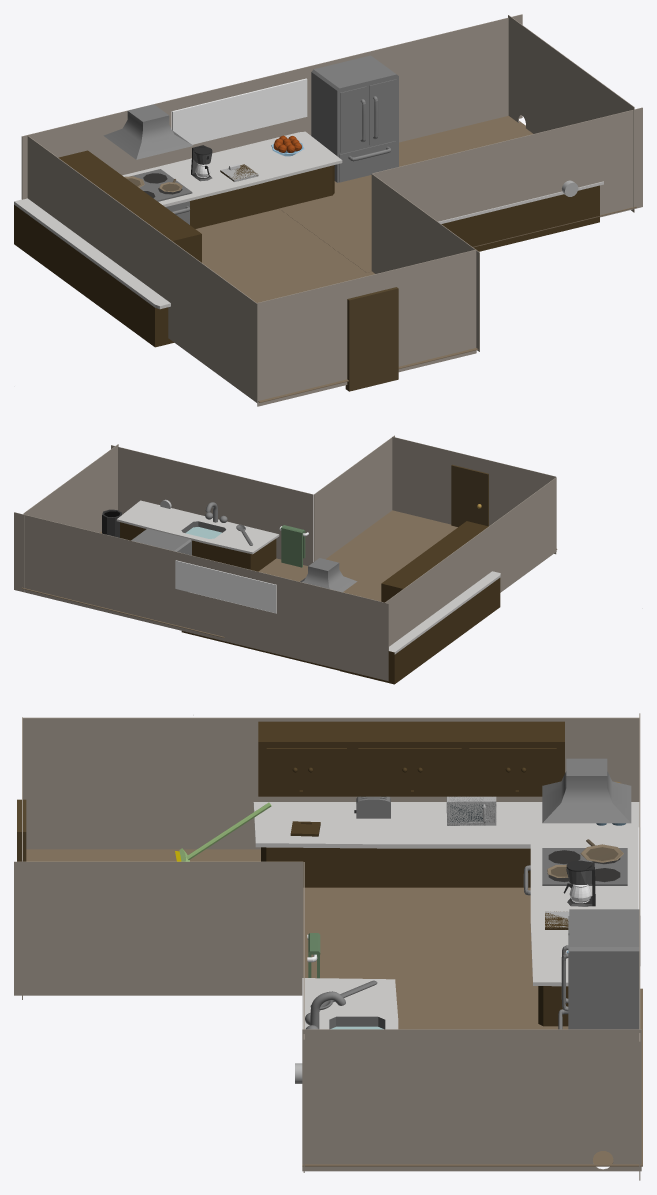
The model's file is kitchennotexture.fbx.
3 views of the same model, one above another, from view 1: azimuth 30°, elevation 25°; view 2: azimuth 150°, elevation 25°; view 3: azimuth 270°, elevation 25° (orthographic). The views are drawn at different scales.
Visible parts, largest first — view 1: Wall2, Wall3, DoubleCounter, Wall5, Wall1, Floor, Fridge, Floor1, Wall, Wall4, SingleCounter, Window (+4 smaller); view 2: Wall2, Wall1, Wall5, Wall3, Wall4, Floor, DoubleCounter, SingleCounter, Wall, Window, Cabinets, Door (+5 smaller); view 3: Wall, Wall4, Wall5, DoubleCounter, Floor, Cabinets, Fridge, Floor1, StoveHood, SingleCounter, StoveTop, Microwave (+5 smaller).
Part boxes in pixels (x1,y1,x2,y2): Wall2: (21, 14, 522, 199); Wall3: (257, 249, 476, 406); DoubleCounter: (14, 131, 342, 347); Wall5: (27, 136, 257, 403); Wall1: (372, 107, 642, 221); Floor: (195, 208, 478, 402); Fridge: (311, 55, 398, 182); Floor1: (279, 116, 636, 272); Wall: (508, 15, 634, 212); Wall4: (371, 174, 479, 351); SingleCounter: (438, 181, 603, 251); Window: (172, 78, 307, 144); Wall2: (14, 512, 388, 681); Wall1: (111, 445, 313, 565); Wall5: (385, 477, 556, 646); Wall3: (392, 436, 556, 554); Wall4: (314, 435, 394, 561); Floor: (326, 510, 557, 601); DoubleCounter: (181, 571, 500, 684); SingleCounter: (116, 500, 279, 571); Wall: (23, 444, 118, 591); Window: (175, 560, 276, 613); Cabinets: (381, 521, 488, 602); Door: (451, 464, 488, 526); Wall: (302, 1029, 641, 1171); Wall4: (14, 861, 303, 995); Wall5: (23, 717, 639, 849); DoubleCounter: (253, 802, 639, 1026); Floor: (26, 849, 538, 988); Cabinets: (258, 721, 564, 796); Fridge: (558, 909, 639, 1029); Floor1: (302, 988, 642, 1166); StoveHood: (542, 758, 631, 823); SingleCounter: (302, 978, 398, 1029); StoveTop: (542, 848, 627, 885); Microwave: (446, 796, 496, 825).
Size of the model in its own units: 408 by 69.81 by 245.
